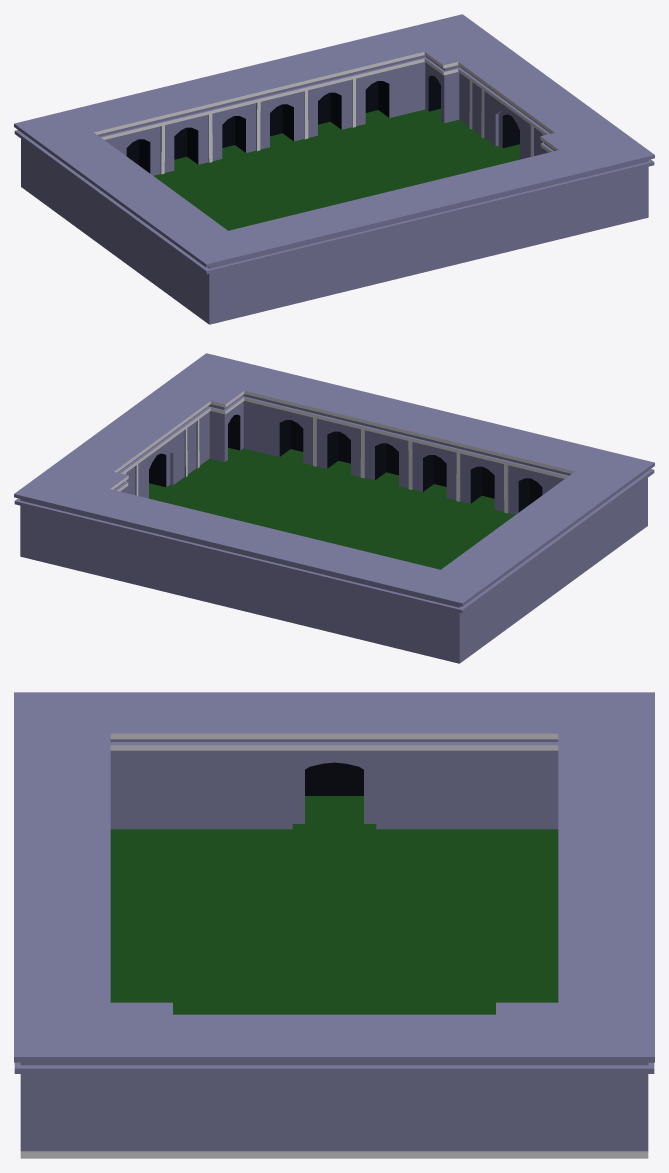
Rendered from valle_caidos_final.FBX.
3 renders of one model, top to bottom at view 1: azimuth 30°, elevation 25°; view 2: azimuth 150°, elevation 25°; view 3: azimuth 270°, elevation 25°, orthographic. The views are drawn at different scales.
Parts seen in each view (by area): view 1: valle; view 2: valle; view 3: valle.
Boxes of the visible parts, x1,y1,x2,y2 form: valle: (14, 14, 654, 324); valle: (14, 353, 654, 663); valle: (14, 692, 654, 1158).
Size of the model in its own units: 1059 by 142 by 787.
